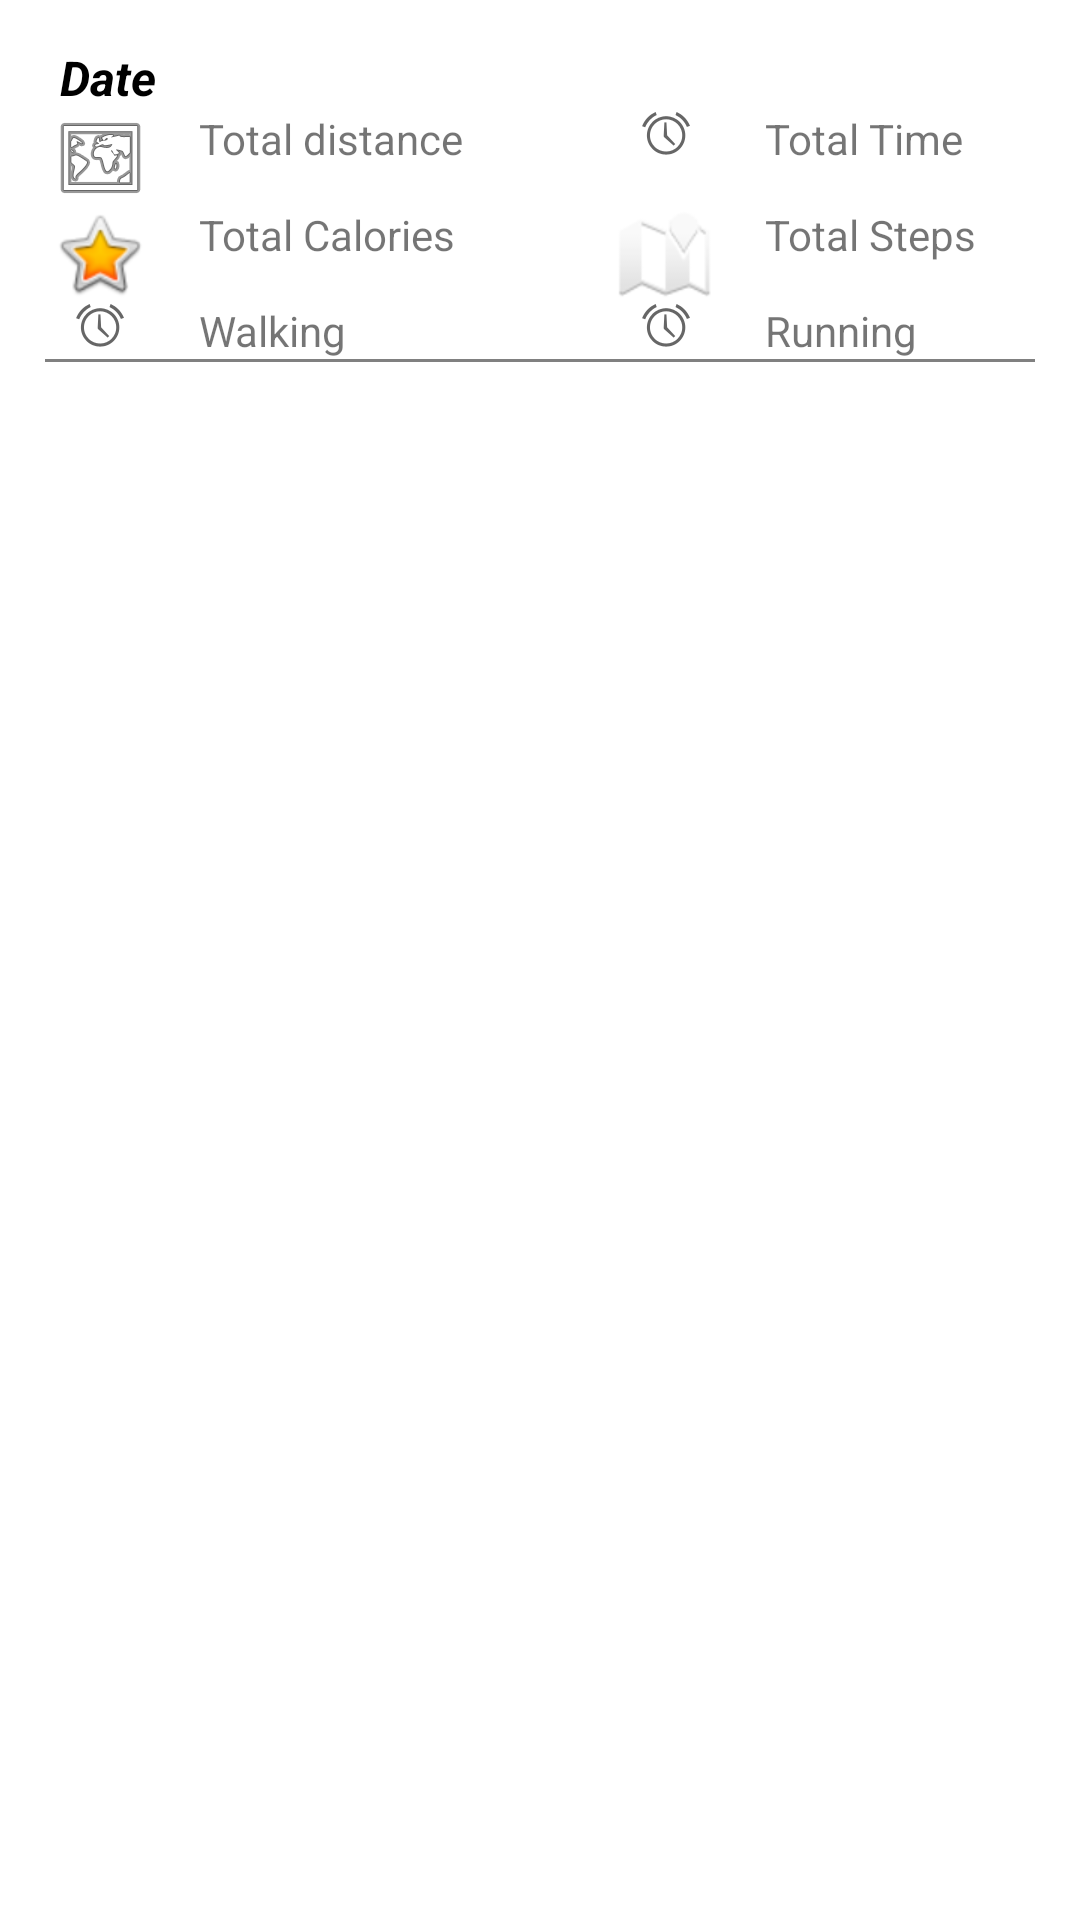

Point at icon controls on the screen. Image size 1080×1920, points as point (x, y).
lock idle alarm: point (666, 133), point (100, 325), point (666, 325)
map: point (664, 259)
mapmode: point (100, 158)
star on: point (100, 255)
